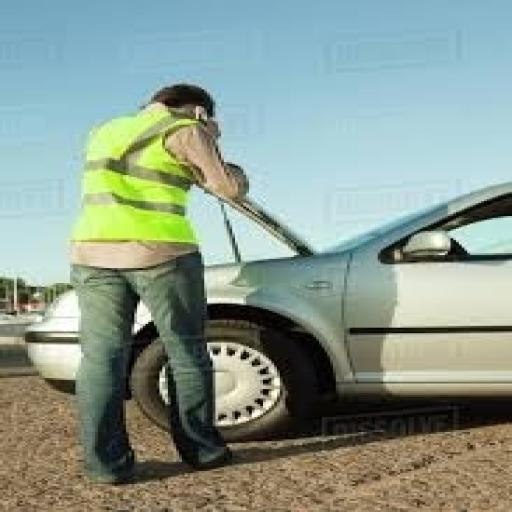calling: (64, 80, 252, 486)
